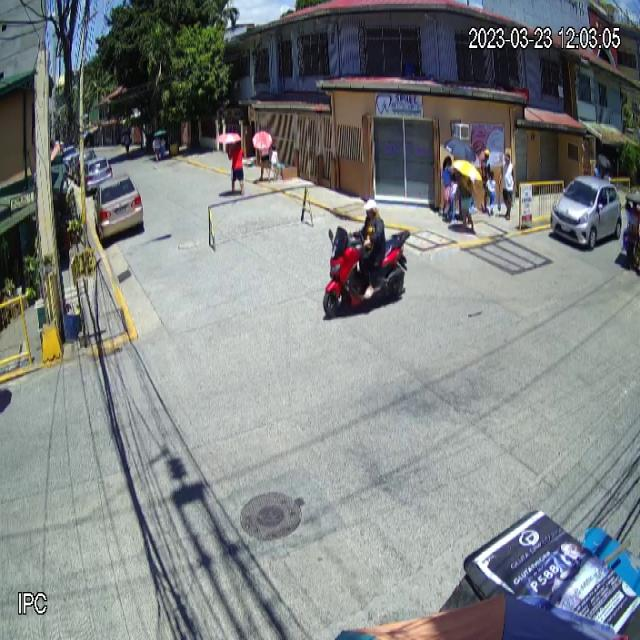Car: (549, 175, 623, 252)
Motorcycle: (322, 224, 410, 317)
